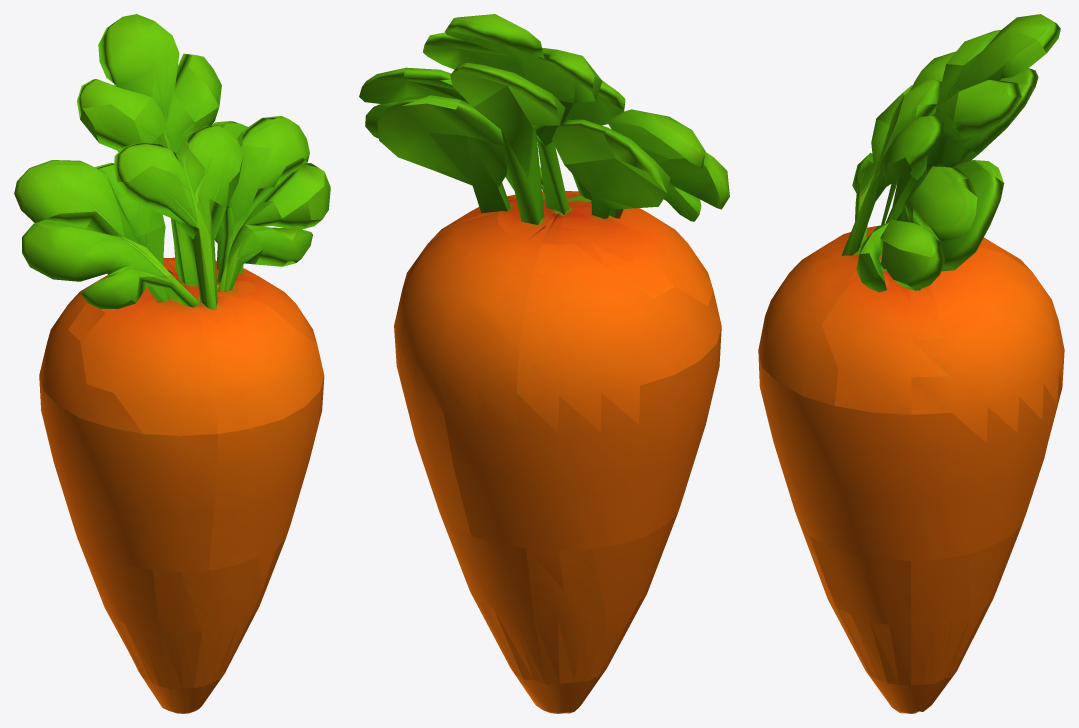
The model's file is carrot.glb.
The picture shows the model from 3 angles, left to right: view 1: azimuth 30°, elevation 25°; view 2: azimuth 150°, elevation 25°; view 3: azimuth 270°, elevation 25°; orthographic projection. The views are drawn at different scales.
Bounding box in the file's own units: 0.499 × 1 × 0.4014.
Materials: 1 (1 with a texture image).
